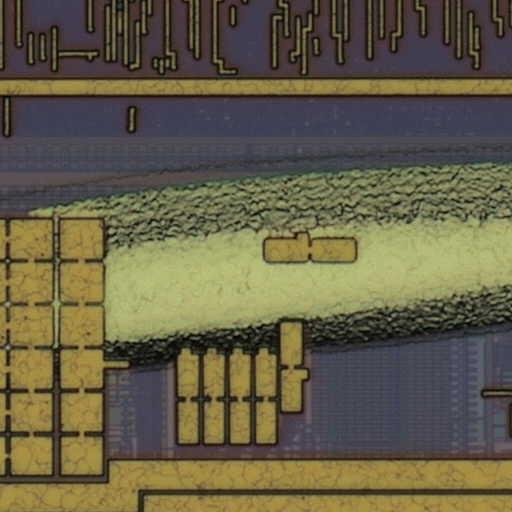BLOCK ETCH: (1, 149, 512, 378)
